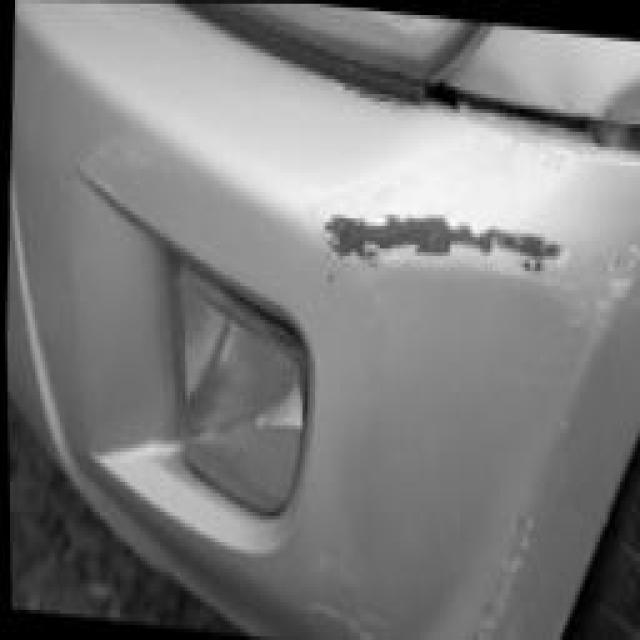Bumper: (155, 75, 639, 639)
